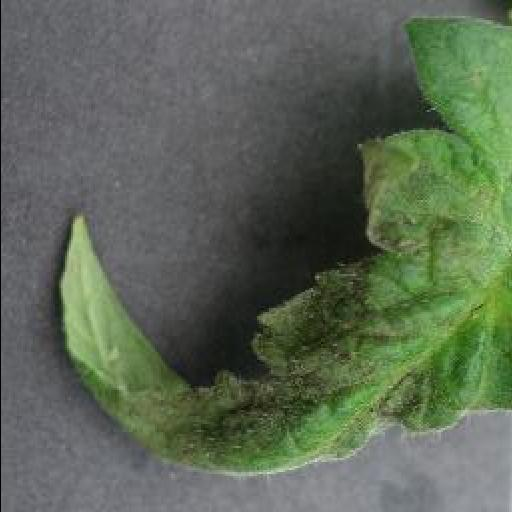disease_tomato: (52, 16, 512, 480)
